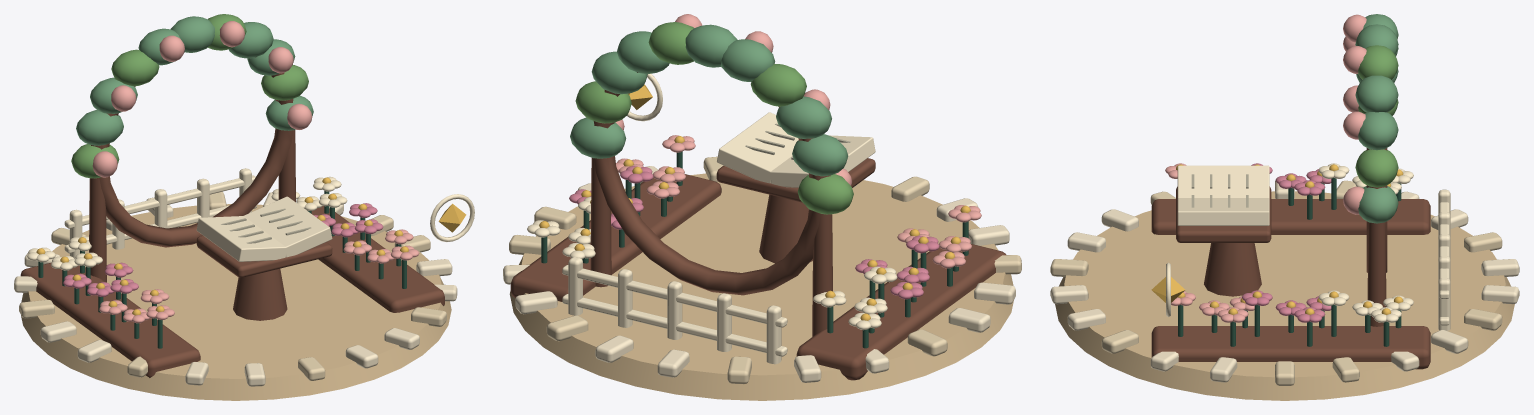
File: journal.glb
3 views of the same model, side by side, from view 1: azimuth 30°, elevation 25°; view 2: azimuth 150°, elevation 25°; view 3: azimuth 270°, elevation 25° (orthographic). The views are drawn at different scales.
Visible parts, largest first — view 1: building-journal, landmark-journal, treasure-journal; view 2: building-journal, landmark-journal, treasure-journal; view 3: landmark-journal, building-journal, treasure-journal.
Part boxes in pixels (left/top/right/bottom): building-journal: left=20, top=14, right=444, bottom=377; landmark-journal: left=14, top=191, right=457, bottom=400; treasure-journal: left=430, top=194, right=474, bottom=242; building-journal: left=510, top=14, right=1006, bottom=380; landmark-journal: left=503, top=156, right=1021, bottom=400; treasure-journal: left=627, top=73, right=662, bottom=121; landmark-journal: left=1050, top=178, right=1519, bottom=400; building-journal: left=1151, top=14, right=1450, bottom=369; treasure-journal: left=1151, top=262, right=1185, bottom=317.
Bounding box in the file's own units: 1.54 × 0.9946 × 1.53.
